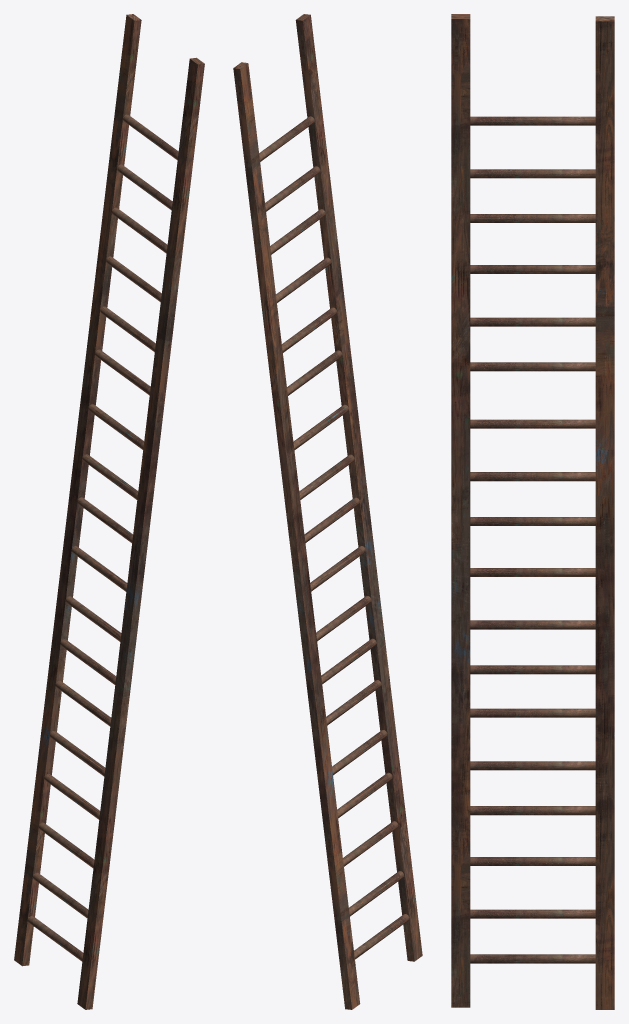
Rendered from Ladder.fbx.
3 views of the same model, side by side, from view 1: azimuth 30°, elevation 25°; view 2: azimuth 150°, elevation 25°; view 3: azimuth 270°, elevation 25° (orthographic). The views are drawn at different scales.
Parts seen in each view (by area): view 1: Ladder___Bootcamp; view 2: Ladder___Bootcamp; view 3: Ladder___Bootcamp.
Part boxes in pixels (<box>): Ladder___Bootcamp: <box>14,14,204,1009</box>; Ladder___Bootcamp: <box>233,14,422,1009</box>; Ladder___Bootcamp: <box>451,14,614,1009</box>.
Size of the model in its own units: 1.57 by 11.57 by 1.62.
